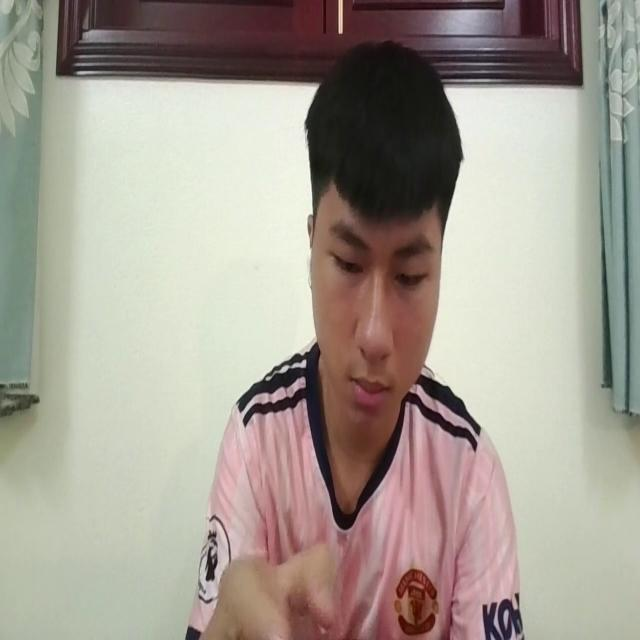student: (193, 37, 523, 640)
